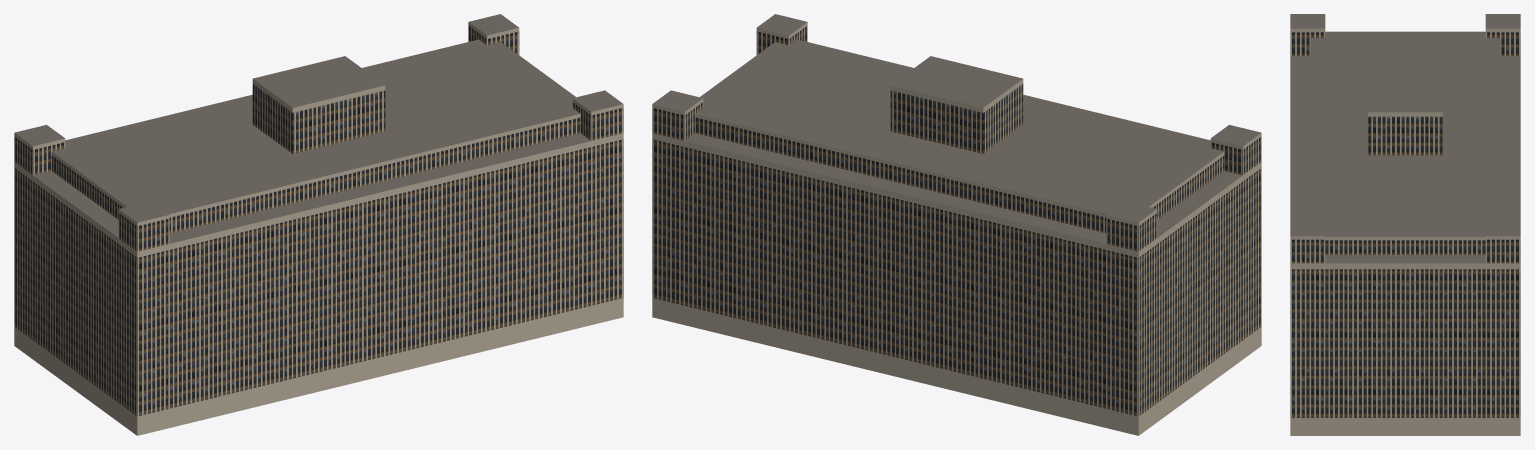
The model's file is merchandise_mart.glb.
3 views of the same model, side by side, from view 1: azimuth 30°, elevation 25°; view 2: azimuth 150°, elevation 25°; view 3: azimuth 270°, elevation 25° (orthographic). The views are drawn at different scales.
Parts seen in each view (by area): view 1: merchandise_mart; view 2: merchandise_mart; view 3: merchandise_mart.
Part boxes in pixels (x1=…): merchandise_mart: x1=14, y1=14, x2=623, y2=435; merchandise_mart: x1=652, y1=14, x2=1261, y2=435; merchandise_mart: x1=1290, y1=14, x2=1520, y2=435.
Bounding box in the file's own units: 210 × 103 × 92.
2 materials, 2 textured.
